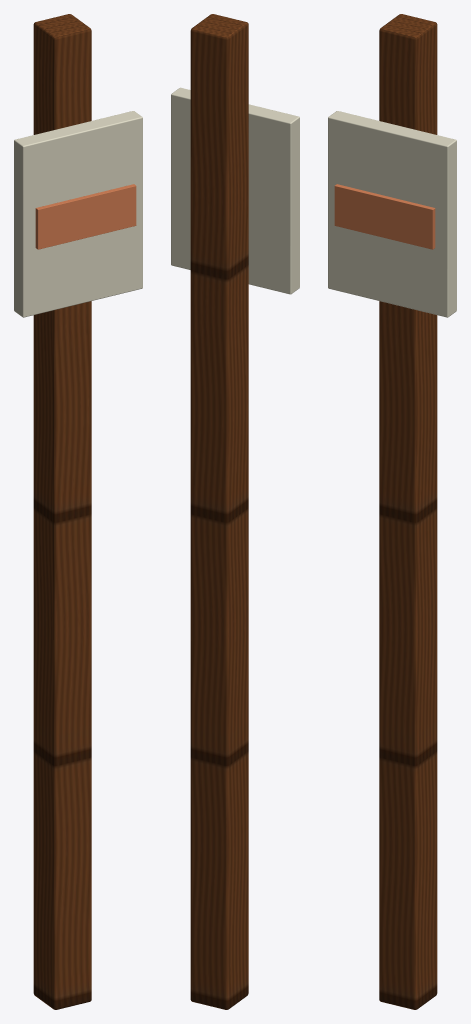
The model's file is extraction-routes-and-objectives-reflective-route-stak-66395cbf__22128.glb.
3 views of the same model, side by side, from view 1: azimuth 30°, elevation 25°; view 2: azimuth 150°, elevation 25°; view 3: azimuth 330°, elevation 25° (orthographic).
Visible parts, largest first — view 1: reflective-route-stake; view 2: reflective-route-stake; view 3: reflective-route-stake.
Boxes of the visible parts, x1,y1,x2,y2 form: reflective-route-stake: (14,14,142,1009); reflective-route-stake: (171,14,299,1009); reflective-route-stake: (328,14,456,1009).
Size of the model in its own units: 0.11 by 0.85 by 0.0565.
3 materials, 1 textured.
